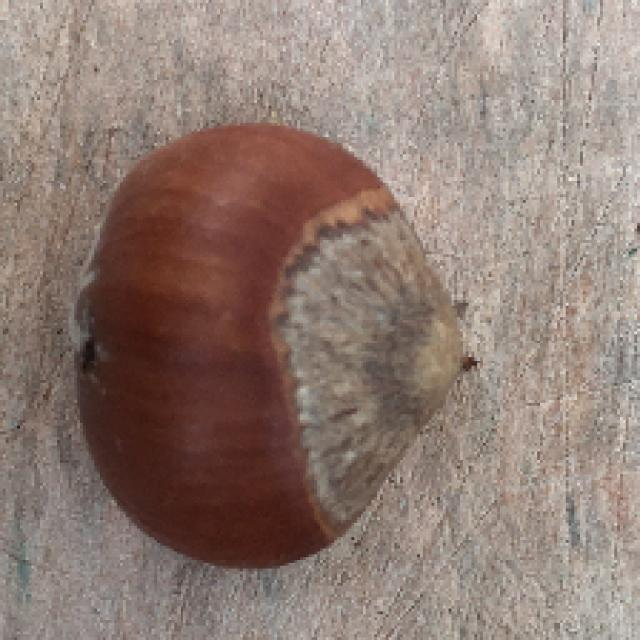damagedHazelnut: (66, 112, 483, 573)
